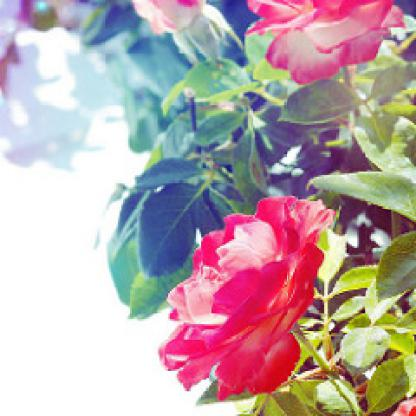Rose-Mawar: (149, 182, 343, 395)
